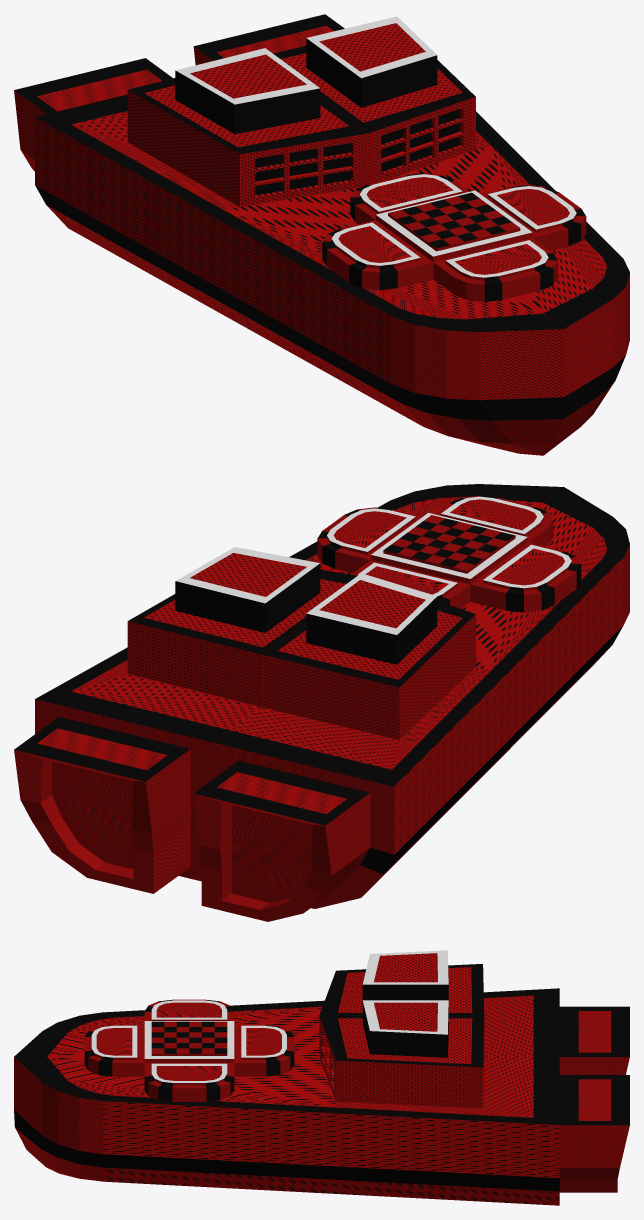
File: RED_RepairShip.fbx
3 renders of one model, top to bottom at view 1: azimuth 30°, elevation 25°; view 2: azimuth 150°, elevation 25°; view 3: azimuth 270°, elevation 25°, orthographic. The views are drawn at different scales.
Visible parts, largest first — view 1: Cube, Cube.001; view 2: Cube, Cube.001; view 3: Cube, Cube.001.
Boxes of the visible parts, x1,y1,x2,y2 form: Cube: (14,14,629,455); Cube.001: (322,173,586,301); Cube: (14,484,629,921); Cube.001: (317,495,581,612); Cube: (14,950,629,1205); Cube.001: (84,999,294,1101).
Bounding box in the file's own units: 443 × 264 × 843.
